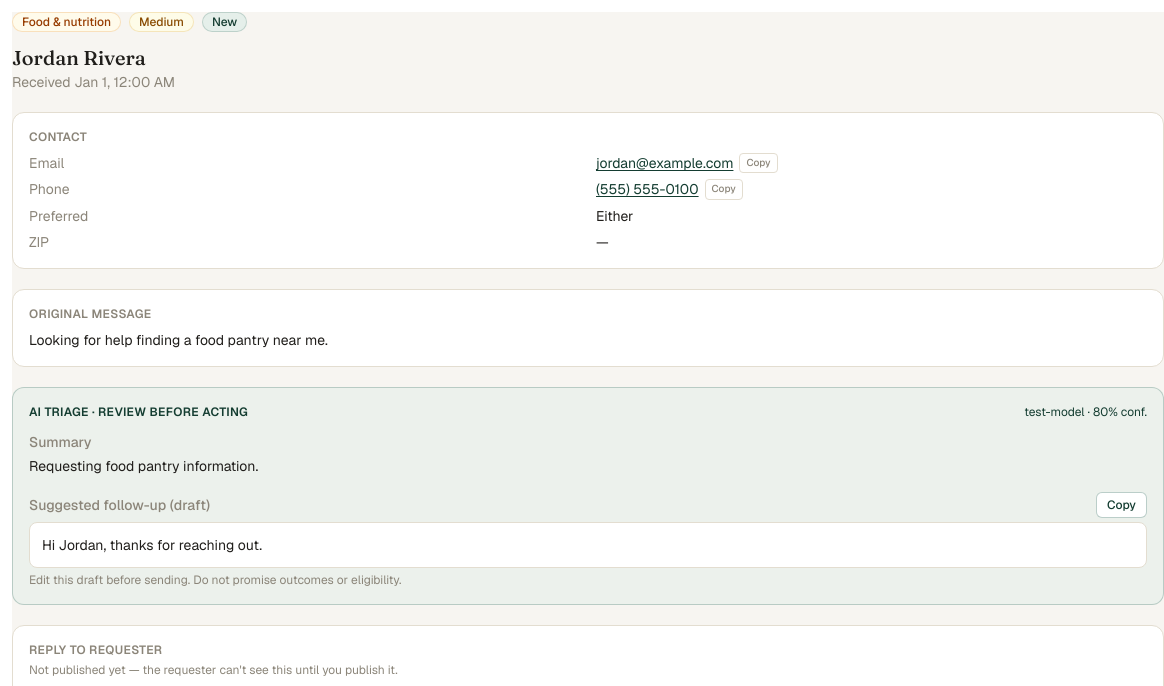
Test: SubmissionDetail › exposes email/phone as mailto: and tel: links with copy buttons
# Copy fallback, addressed by its accessible label.
Step 1. Click the button with aria-label "copy email" → [758, 163], box top-left (739, 153), bottom-right (778, 173)
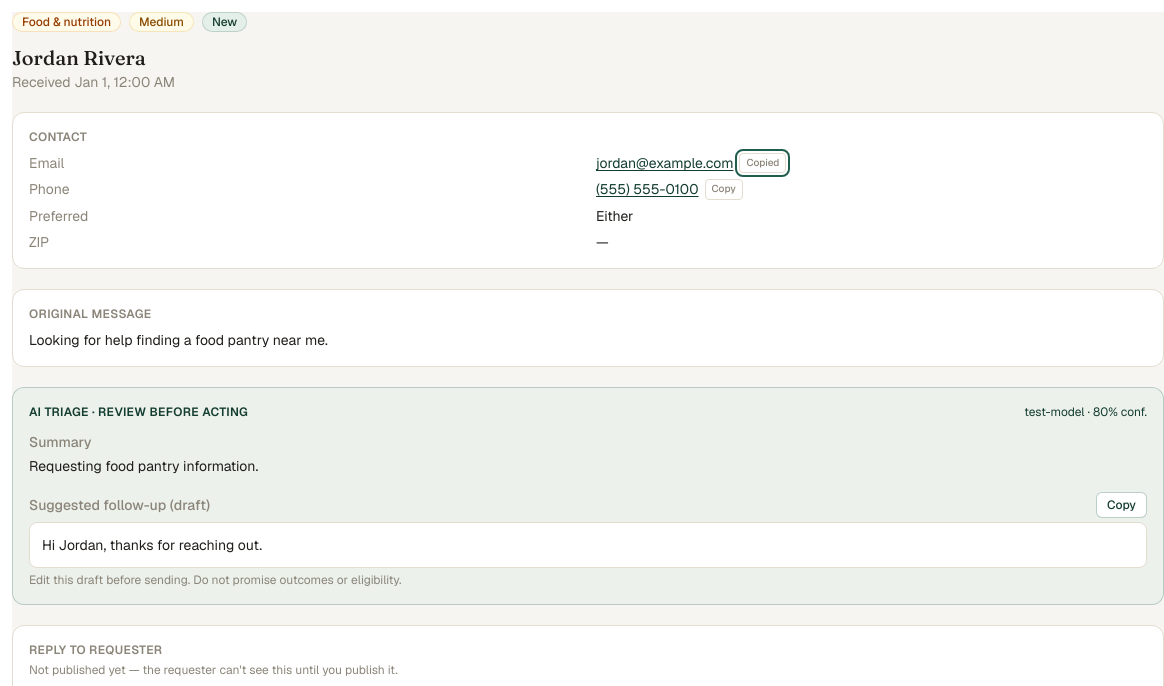
Expected: the button "Copied" is shown, top-left (739, 153), bottom-right (786, 173)
